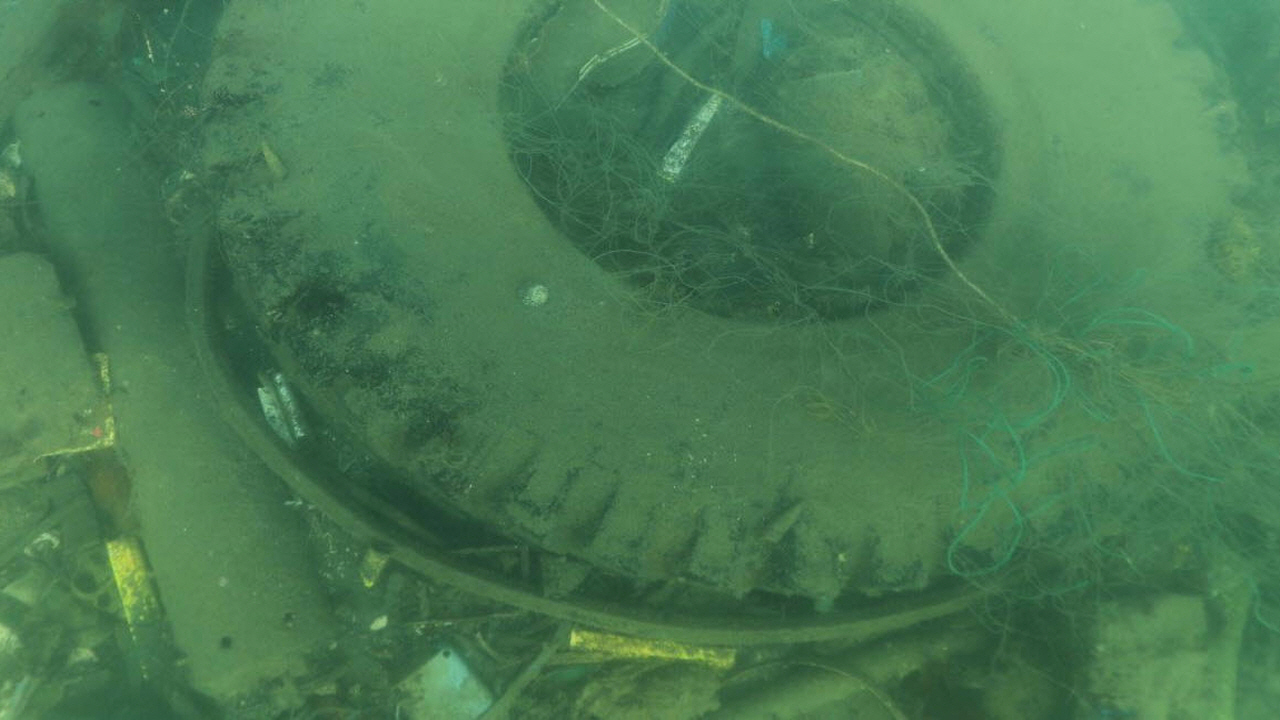eel fish trap: (18, 79, 339, 708)
tire: (200, 0, 1256, 600)
